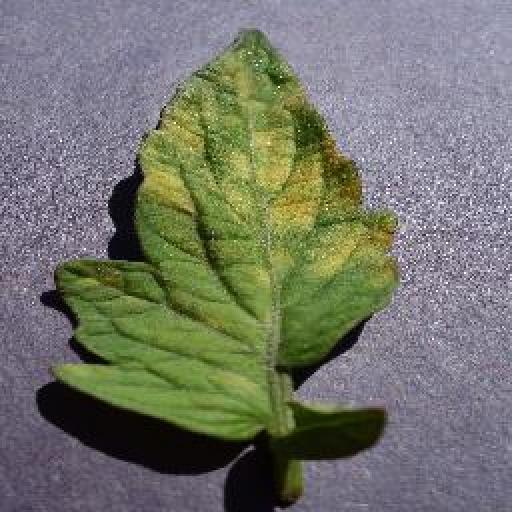disease_tomato: (52, 26, 400, 438)
